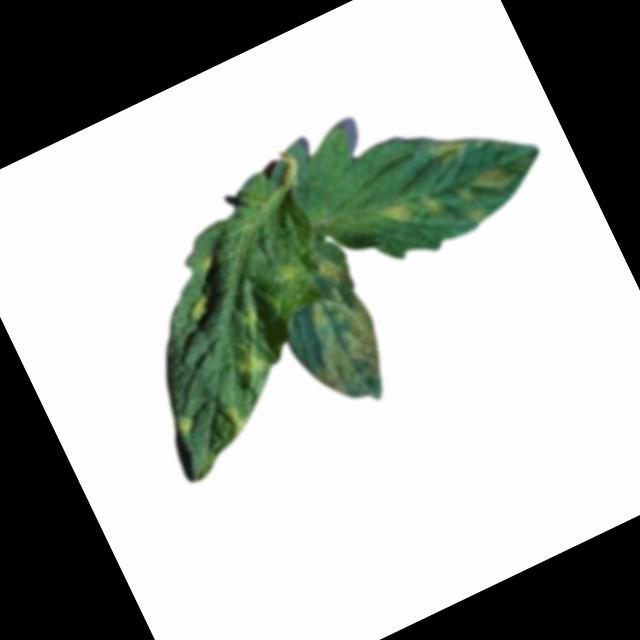Leaf_Mold: (267, 245, 408, 417), (450, 161, 527, 227), (375, 182, 447, 241), (225, 331, 282, 385), (424, 125, 473, 169), (231, 296, 274, 340), (214, 397, 255, 442), (269, 250, 311, 292), (170, 409, 206, 441), (187, 293, 220, 324)
